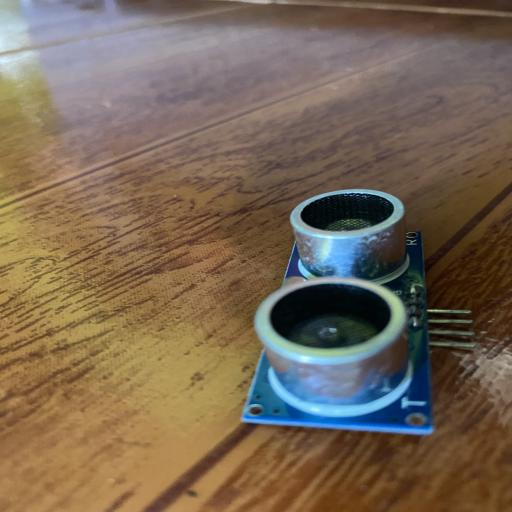Ultrasonic Sensor: (239, 187, 476, 435)
